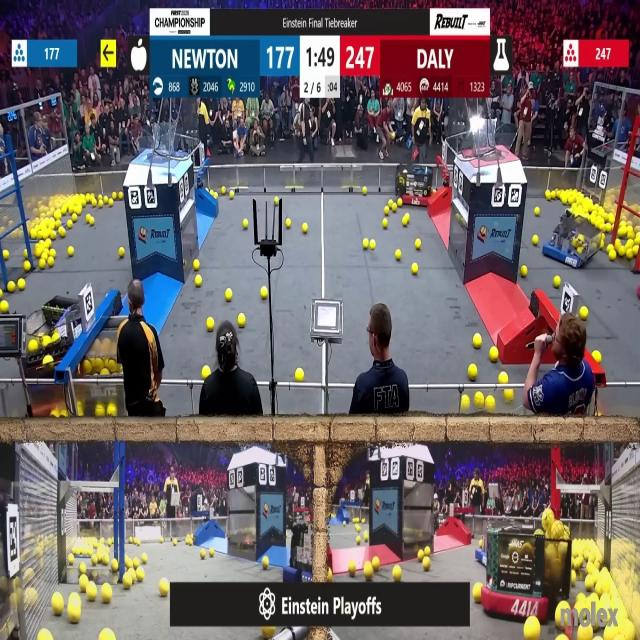ball_airborne: (544, 511, 552, 525)
ball_ground: (68, 601, 80, 623), (54, 595, 65, 616), (102, 586, 112, 604), (472, 585, 481, 604), (161, 581, 171, 598), (89, 586, 98, 602), (97, 406, 107, 419), (122, 574, 131, 588), (393, 566, 401, 581), (39, 630, 51, 640), (101, 630, 113, 640), (294, 367, 303, 380), (503, 389, 512, 402), (107, 405, 116, 418), (472, 335, 480, 349), (468, 364, 476, 378), (136, 568, 144, 582), (586, 576, 594, 590), (556, 612, 563, 628), (486, 395, 495, 407), (593, 351, 602, 363), (224, 288, 232, 301), (422, 558, 430, 571), (262, 286, 270, 299), (461, 395, 469, 408), (364, 565, 372, 578), (474, 392, 482, 405), (491, 348, 498, 362), (207, 317, 214, 331), (79, 579, 86, 593), (349, 561, 356, 575), (0, 302, 8, 314), (554, 276, 562, 288), (203, 365, 211, 377), (238, 314, 246, 326), (373, 558, 381, 570), (499, 373, 507, 384), (263, 557, 270, 569), (582, 308, 589, 320), (570, 571, 576, 585), (102, 556, 110, 566), (192, 261, 199, 272), (521, 267, 528, 278), (7, 282, 14, 293), (39, 261, 46, 272), (112, 560, 118, 572), (17, 280, 24, 290), (194, 276, 201, 286), (609, 250, 616, 260), (141, 554, 148, 564), (68, 555, 75, 565), (417, 552, 424, 562), (604, 222, 611, 232), (413, 265, 419, 276), (402, 215, 408, 226), (561, 601, 569, 609), (68, 247, 74, 257), (26, 263, 32, 273), (395, 250, 401, 260), (362, 239, 368, 249), (303, 222, 309, 232), (3, 250, 9, 260), (47, 256, 53, 266), (243, 218, 249, 228), (60, 229, 66, 239), (201, 550, 207, 560), (424, 545, 430, 555), (532, 236, 538, 246), (80, 564, 86, 574), (620, 246, 626, 256), (286, 218, 292, 228), (633, 247, 639, 257), (363, 531, 369, 541), (36, 248, 42, 258), (50, 231, 56, 241), (93, 556, 99, 566), (128, 558, 134, 568), (48, 249, 55, 257), (396, 200, 403, 208), (627, 239, 634, 247), (185, 537, 192, 545), (391, 204, 397, 213), (85, 215, 91, 224), (134, 559, 140, 568), (75, 207, 81, 216), (416, 240, 421, 250), (118, 248, 123, 258), (369, 240, 374, 250), (383, 218, 388, 228), (117, 191, 123, 199), (93, 200, 99, 208), (544, 190, 550, 198), (220, 186, 226, 194), (45, 240, 51, 248), (534, 207, 539, 216), (356, 535, 361, 544), (227, 190, 233, 197), (172, 538, 178, 545), (606, 244, 612, 251), (600, 233, 606, 240), (108, 199, 113, 207), (275, 198, 280, 206), (558, 635, 566, 640), (617, 240, 622, 248), (68, 220, 73, 228), (99, 200, 104, 208), (600, 242, 605, 250), (24, 250, 29, 258), (356, 524, 361, 532), (108, 537, 113, 545), (210, 549, 214, 558), (385, 208, 390, 215), (362, 187, 367, 194), (388, 201, 393, 208), (91, 216, 95, 224), (112, 191, 116, 199), (0, 290, 4, 298), (72, 214, 76, 221), (161, 536, 165, 543), (104, 195, 108, 202), (136, 538, 140, 545), (130, 536, 134, 543), (215, 194, 218, 201)
goal: (465, 120, 520, 160), (129, 130, 188, 160)
robot_blue: (544, 218, 597, 270)
robot_red: (487, 518, 552, 620), (18, 300, 80, 368), (396, 164, 435, 206)
